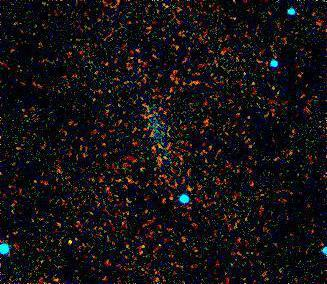star: (56, 230, 86, 260)
